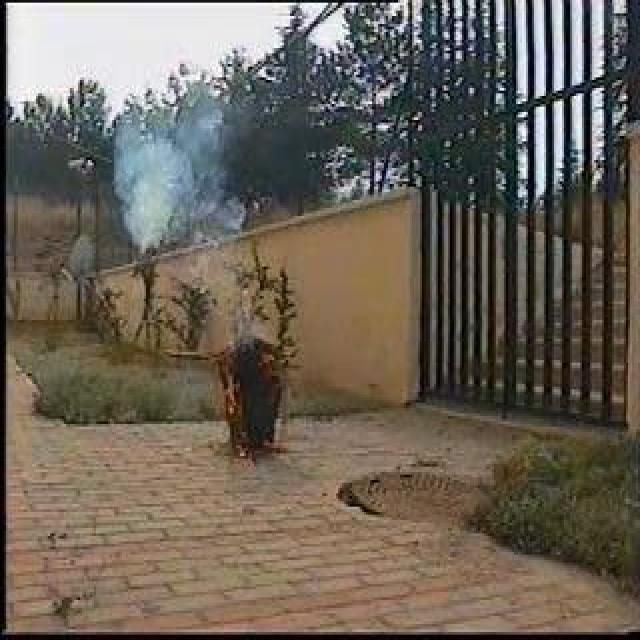fire: (215, 343, 245, 436)
smoke: (112, 120, 224, 245)
